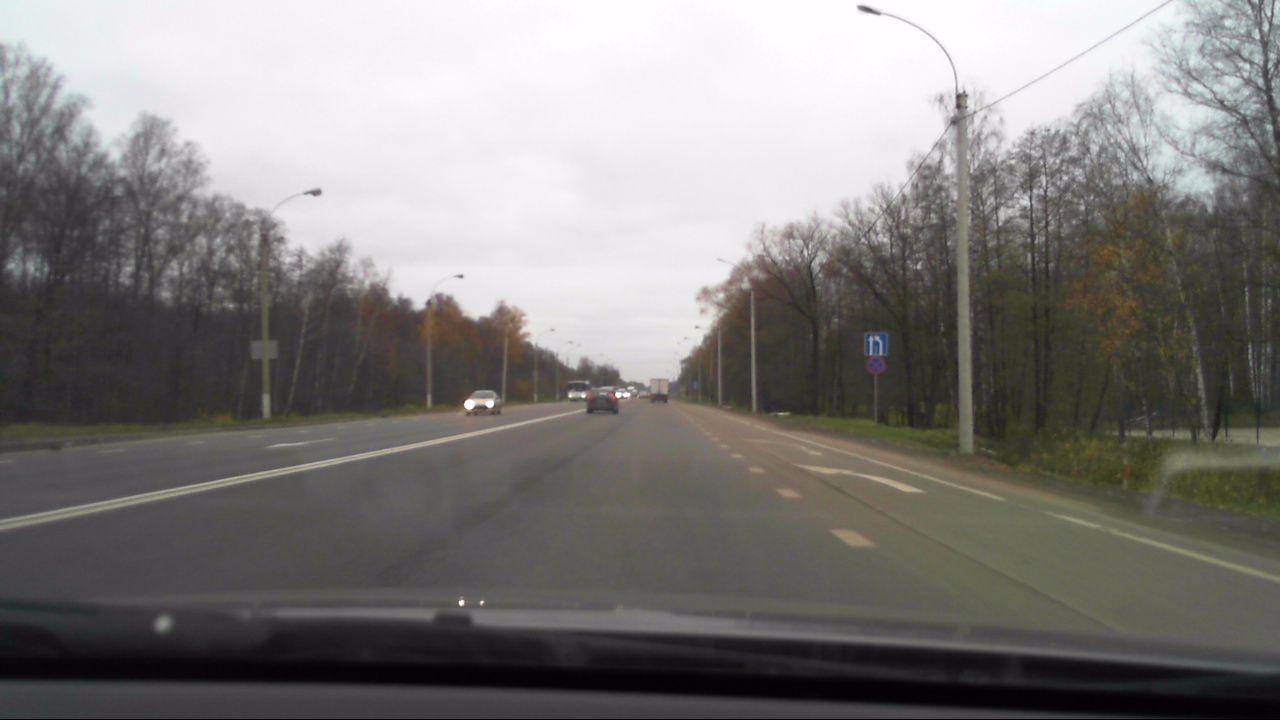No Parking: (865, 356, 887, 376)
